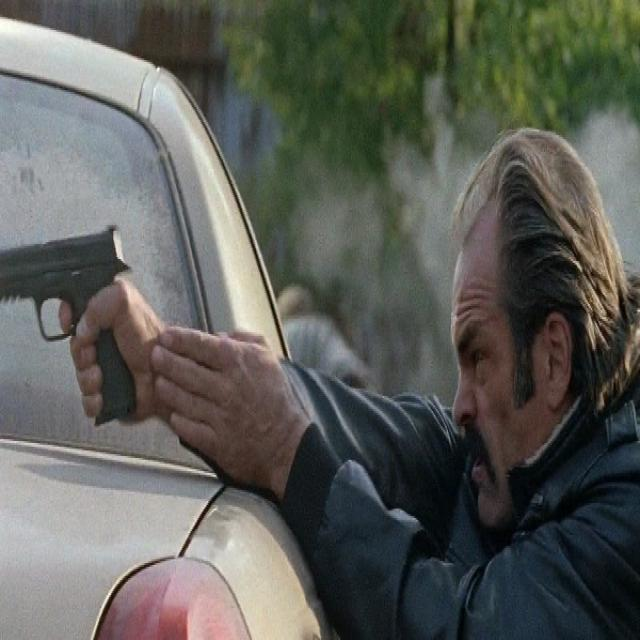weapons: (0, 210, 147, 438)
